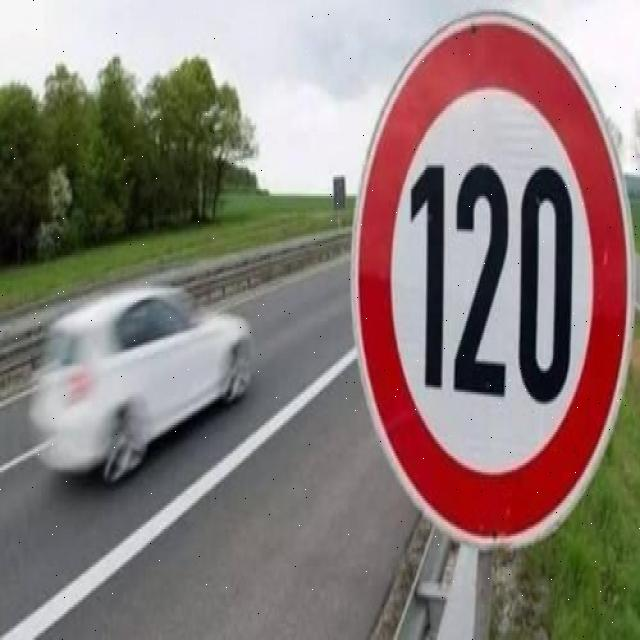speed limit 120: (352, 7, 633, 550)
